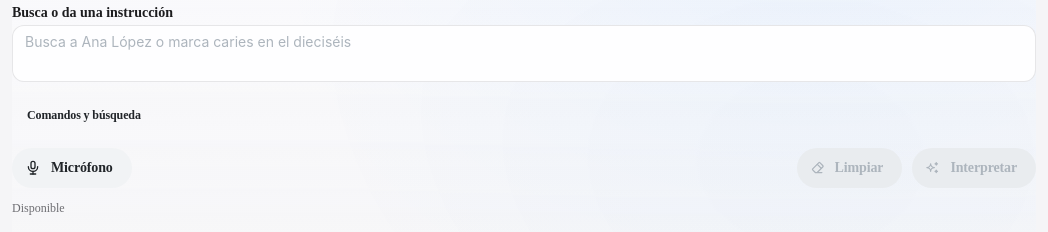
Test case: VoiceCommandPanel › offers one editable field to write or dictate an instruction
In the text box labelled "Busca o da una instrucción": coordinates (524, 53) [12, 25, 1036, 82], type "abre la agenda"
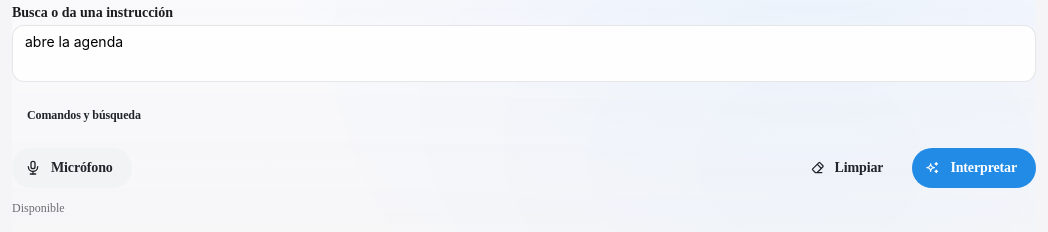
Expected: the button "Micrófono" is enabled, [12, 148, 132, 188]
Expected: the button "Interpretar" is enabled, [912, 148, 1036, 188]
Expected: the button "Limpiar" is enabled, [797, 148, 902, 188]
